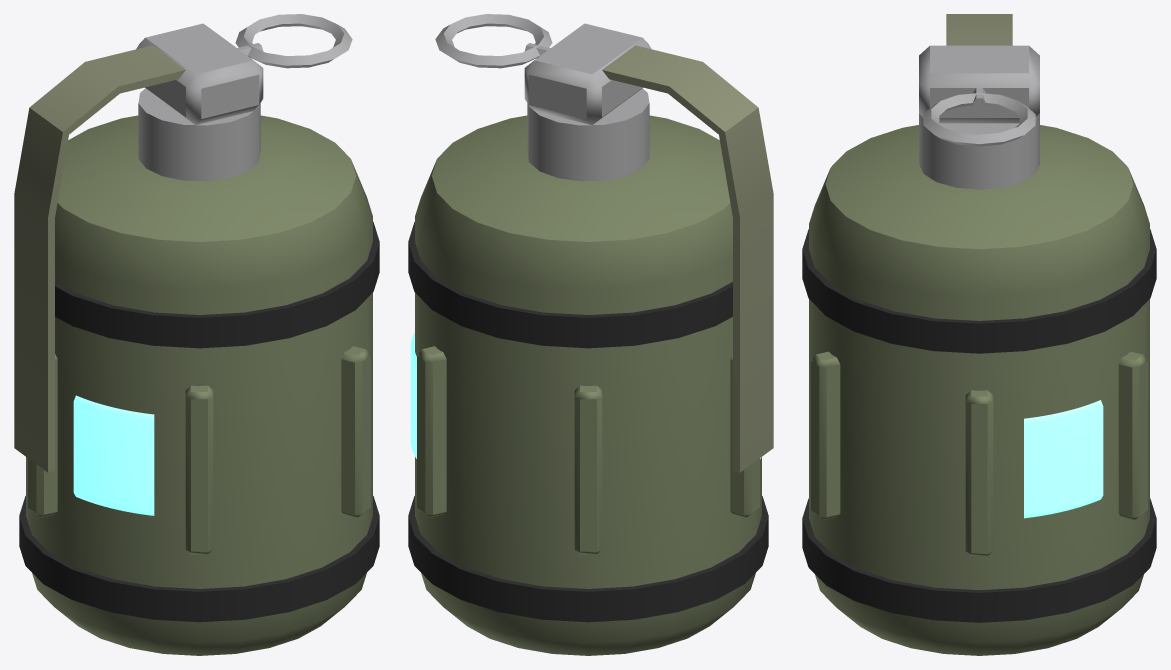
File: emp_grenade.glb
3 renders of one model, left to right at view 1: azimuth 30°, elevation 25°; view 2: azimuth 150°, elevation 25°; view 3: azimuth 270°, elevation 25°, orthographic.
Parts seen in each view (by area): view 1: body; view 2: body; view 3: body.
Boxes of the visible parts, left/top/right/bottom form: body: left=14, top=14, right=379, bottom=655; body: left=408, top=14, right=773, bottom=655; body: left=802, top=14, right=1156, bottom=655.
Bounding box in the file's own units: 0.0693 × 0.108 × 0.0644.
